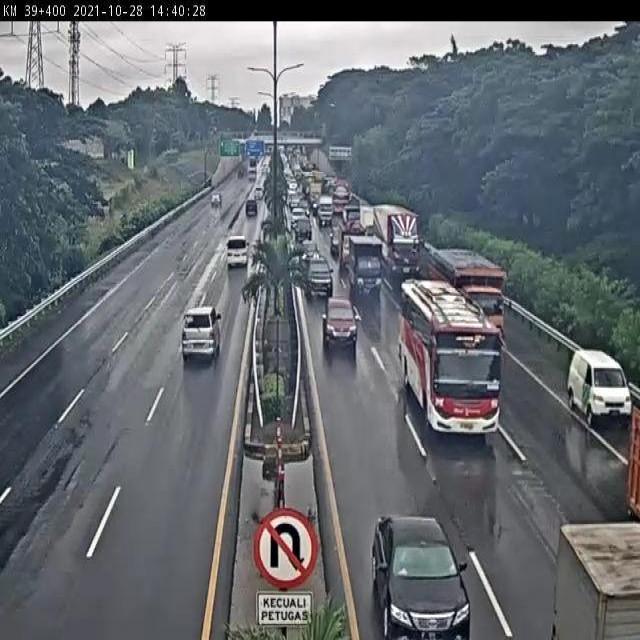big bus: (401, 284, 505, 440)
big truck: (374, 204, 420, 279)
car: (372, 517, 472, 640), (564, 349, 633, 424), (178, 304, 223, 363), (320, 291, 357, 340), (306, 254, 332, 294), (224, 235, 250, 273)
mid truck: (421, 244, 499, 355)
small truck: (344, 235, 380, 288)
